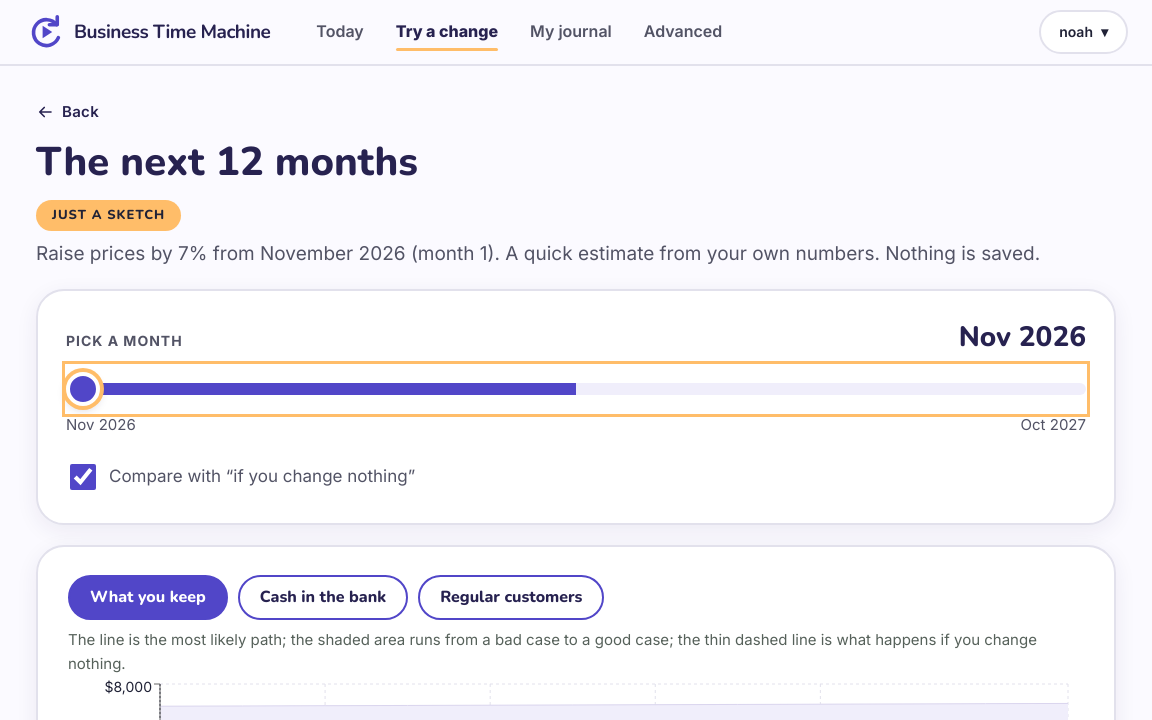
Test: phone width and keyboard › the time slider and the compare switch can be used with the keyboard
The image size is (1152, 720).
Step 1. Set the slider labelled "Pick a month" to "4" → coordinates (348, 389), box [66,365,1086,413]
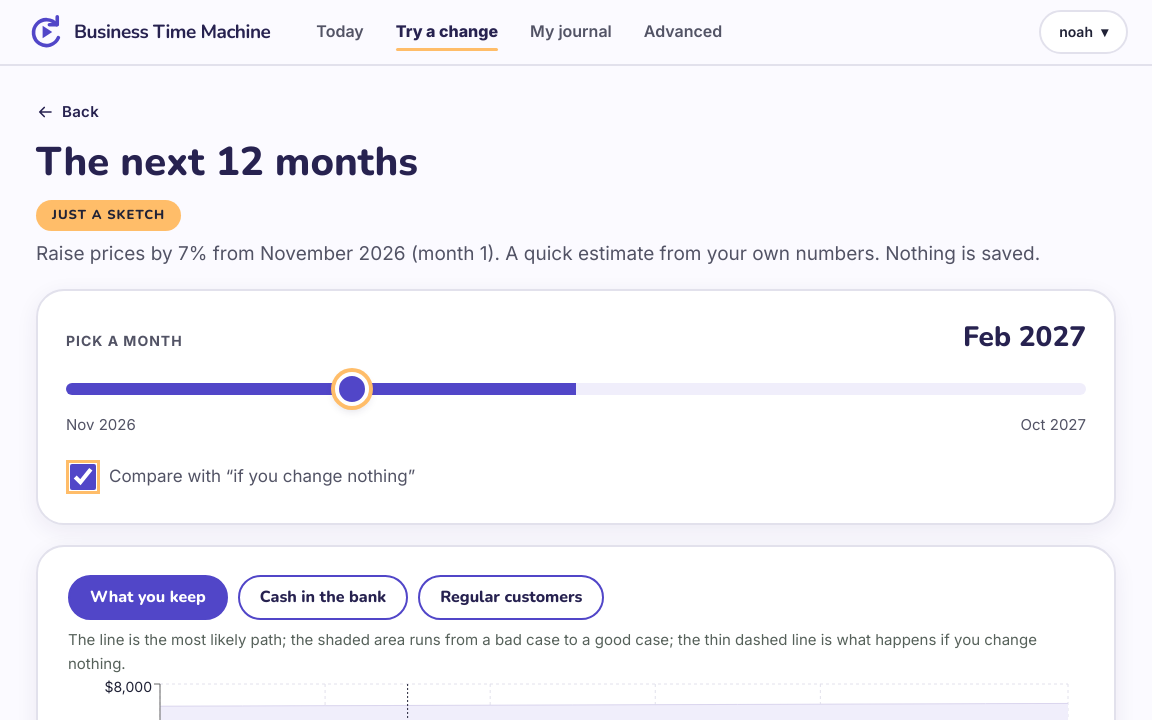
Expected: the slider labelled "Pick a month" has attribute aria-valuetext="Month 4, Feb 2027", [66,365,1086,413]
Step 2. Type keys " "
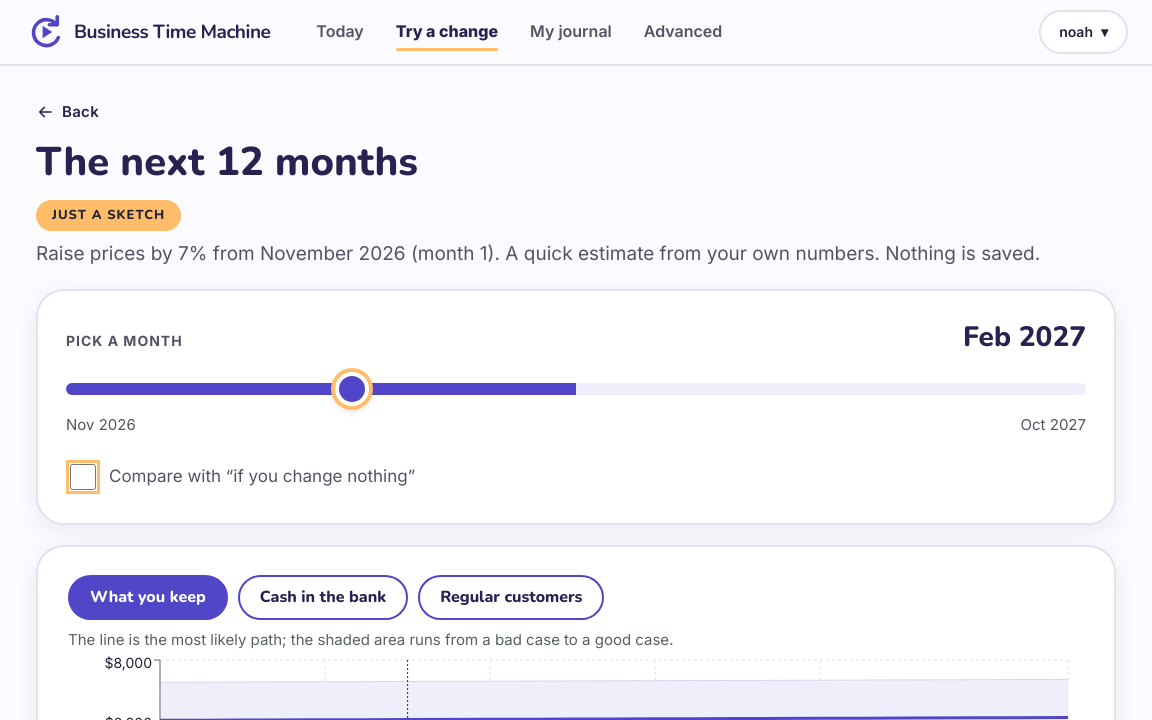
Expected: the switch is not checked, [70,464,96,490]
